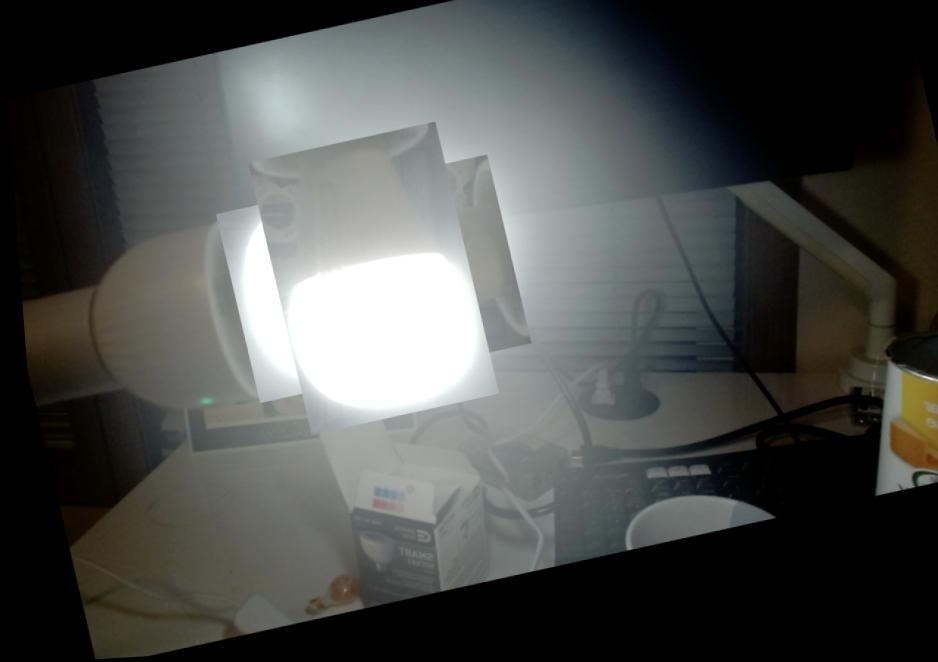TubeLight: (226, 142, 512, 424)
